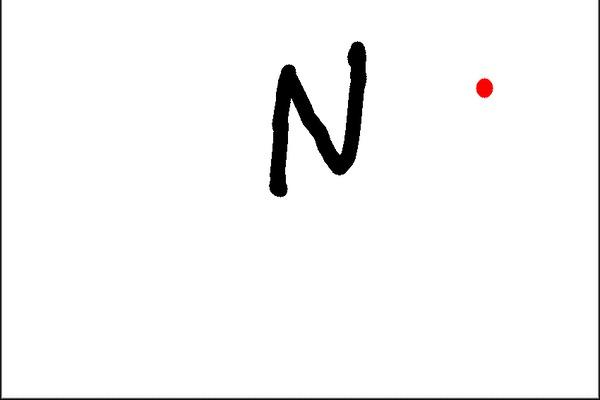N: (265, 37, 370, 204)
